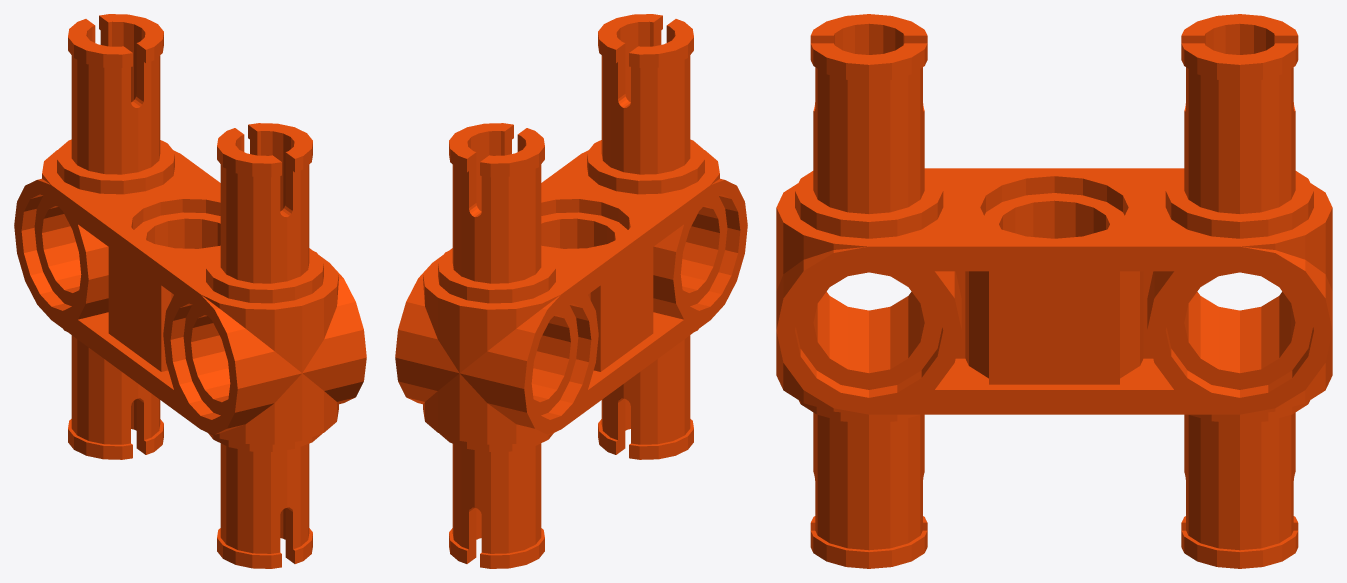
Rendered from beam_3M_with_4_connector_pegs.dae.
3 views of the same model, side by side, from view 1: azimuth 30°, elevation 25°; view 2: azimuth 150°, elevation 25°; view 3: azimuth 270°, elevation 25° (orthographic). The views are drawn at different scales.
Visible parts, largest first — view 1: node; view 2: node; view 3: node.
Boxes of the visible parts, x1,y1,x2,y2 form: node: (14,14,366,568); node: (395,14,747,568); node: (776,14,1332,568).
Bounding box in the file's own units: 20 × 60 × 60.
Materials: 1 (1 with a texture image).
